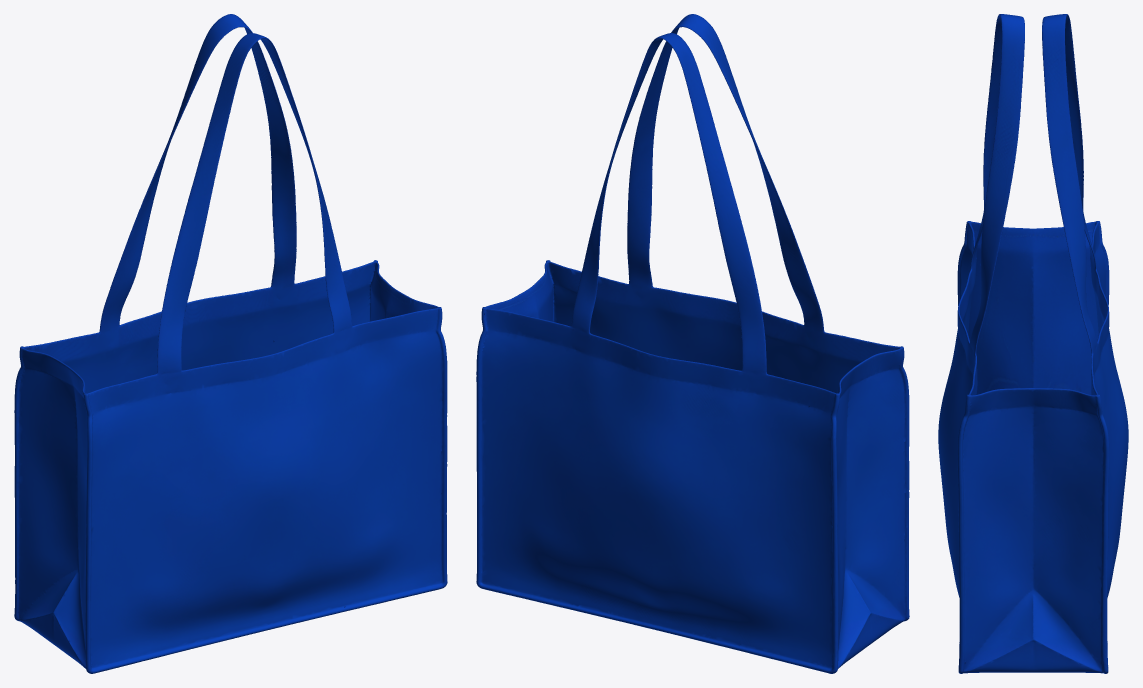
File: Rusable_Bag.glb
3 renders of one model, left to right at view 1: azimuth 30°, elevation 25°; view 2: azimuth 150°, elevation 25°; view 3: azimuth 270°, elevation 25°, orthographic.
Parts seen in each view (by area): view 1: Reusable_Shopping_Bag; view 2: Reusable_Shopping_Bag; view 3: Reusable_Shopping_Bag.
Boxes of the visible parts, left/top/right/bottom form: Reusable_Shopping_Bag: left=14, top=14, right=447, bottom=673; Reusable_Shopping_Bag: left=476, top=14, right=909, bottom=673; Reusable_Shopping_Bag: left=938, top=14, right=1128, bottom=673.
Size of the model in its own units: 1.24 by 1.9 by 0.5644.
Materials: 1 (1 with a texture image).
